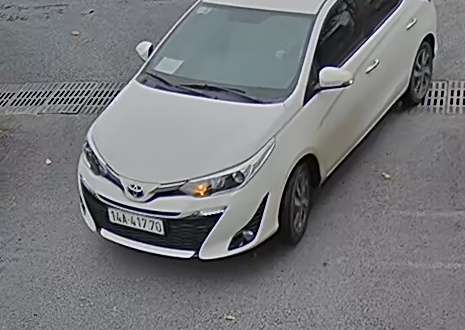vehicle plate: (105, 204, 166, 237)
